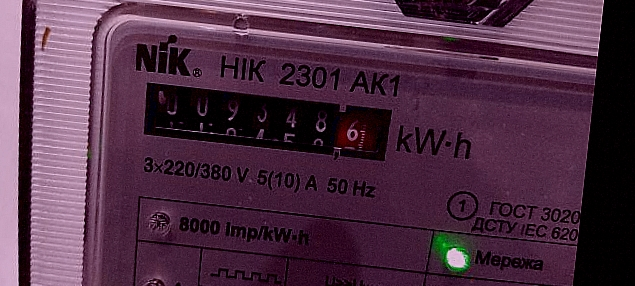0: (162, 90, 181, 117), (193, 90, 210, 118)
3: (254, 98, 270, 124)
4: (280, 99, 302, 131)
6: (342, 114, 362, 144)
8: (312, 105, 330, 135)
9: (224, 97, 240, 125)
screen: (122, 66, 407, 174)
